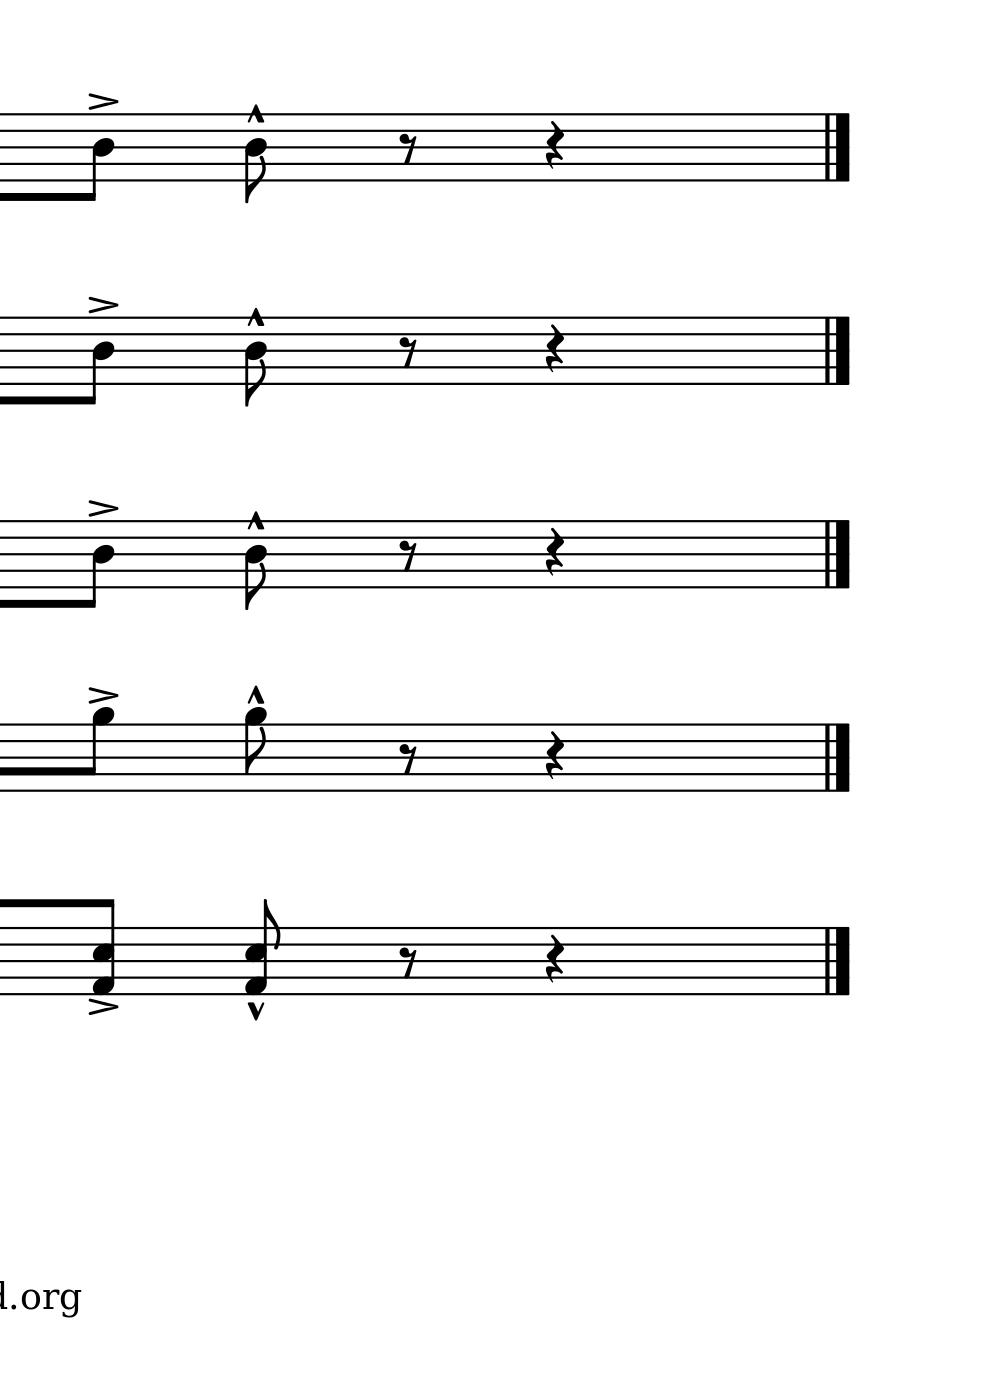8_1_5: (243, 895, 282, 998), (90, 897, 119, 999)
8_4: (79, 520, 118, 608), (80, 315, 116, 407), (82, 112, 118, 202), (242, 112, 271, 204), (244, 520, 270, 613), (243, 316, 269, 409)
8_9: (82, 706, 117, 794), (243, 707, 272, 794)
Accent_above: (84, 996, 121, 1017), (87, 91, 118, 112), (87, 499, 118, 520)
Final_barline: (815, 925, 851, 997), (817, 520, 853, 590), (817, 112, 853, 183), (817, 723, 852, 794), (817, 316, 852, 387)
Marcato_above: (245, 509, 268, 533), (244, 103, 267, 127), (244, 306, 267, 329), (245, 684, 266, 707), (243, 999, 267, 1019)
Rests4: (542, 525, 565, 579), (543, 323, 566, 374), (543, 731, 565, 781), (544, 121, 566, 171), (545, 935, 565, 985)
Rests8: (394, 335, 419, 370), (397, 538, 419, 574), (396, 742, 419, 777), (397, 947, 418, 980), (397, 133, 418, 165)
